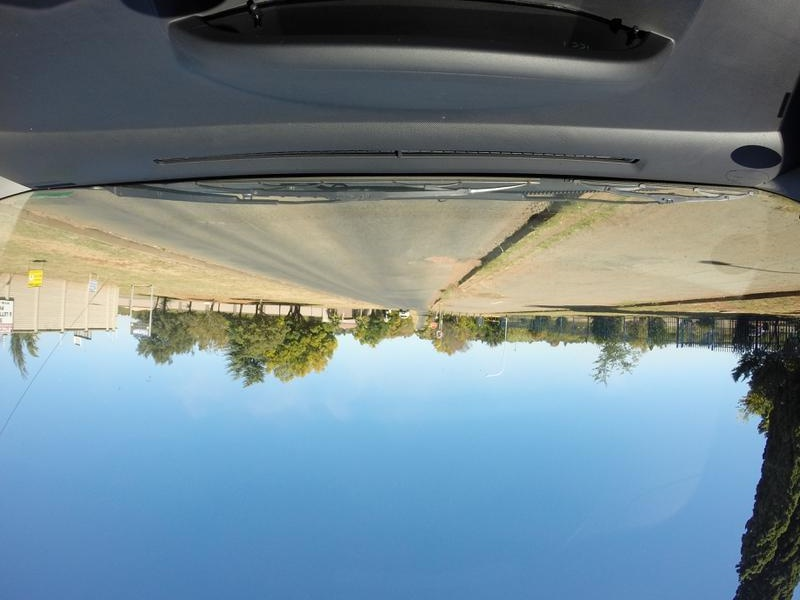pothole: (413, 253, 476, 273)
